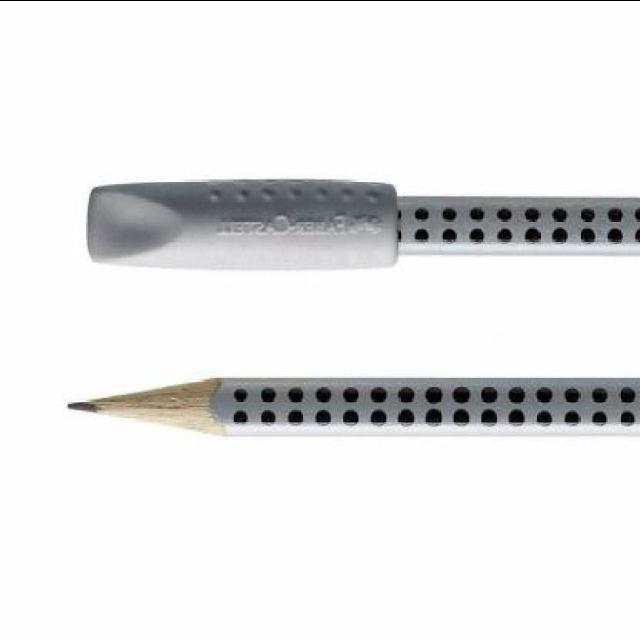Pencil: (57, 364, 265, 446)
